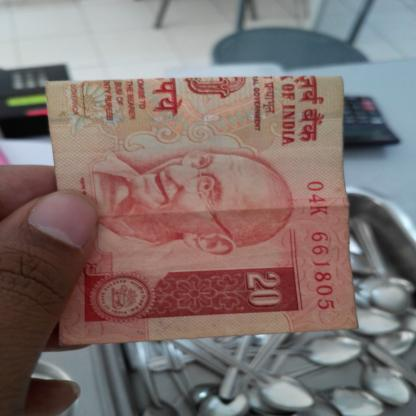Old20Front: (46, 83, 360, 334)
